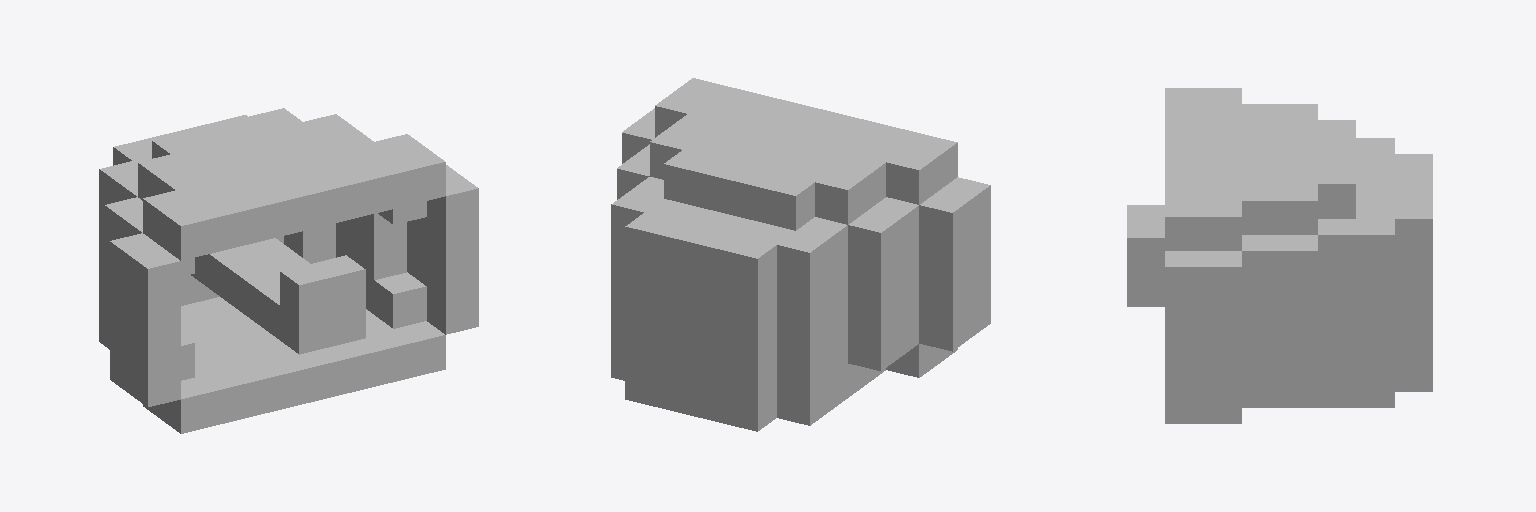
The model's file is Radar.obj.
3 views of the same model, side by side, from view 1: azimuth 30°, elevation 25°; view 2: azimuth 150°, elevation 25°; view 3: azimuth 270°, elevation 25° (orthographic).
Visible parts, largest first — view 1: Radar; view 2: Radar; view 3: Radar.
Boxes of the visible parts, <box> form: Radar: <box>99,108,478,433</box>; Radar: <box>611,78,990,431</box>; Radar: <box>1127,88,1432,423</box>.
Size of the model in its own units: 1 by 0.6 by 0.8.